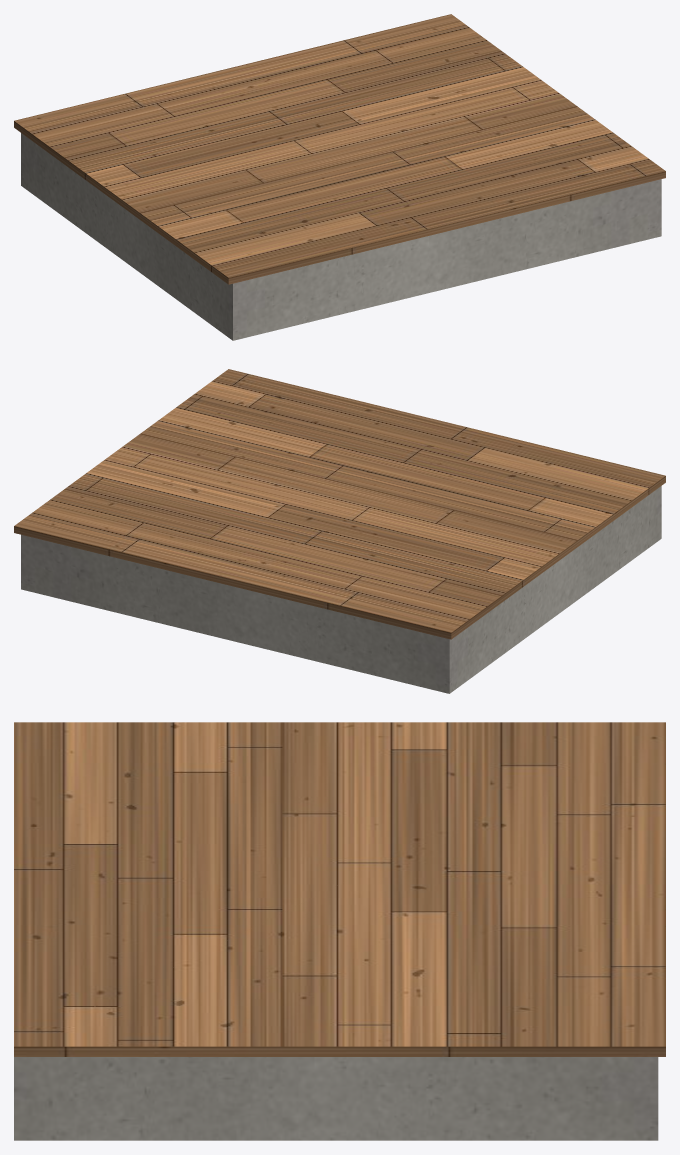
The model's file is floor_wood_g_e0_0_0_30.glb.
3 views of the same model, one above another, from view 1: azimuth 30°, elevation 25°; view 2: azimuth 150°, elevation 25°; view 3: azimuth 270°, elevation 25° (orthographic). The views are drawn at different scales.
Visible parts, largest first — view 1: floor_wood_g_e0_0_0_30_floor, floor_wood_g_e0_0_0_30_concrete; view 2: floor_wood_g_e0_0_0_30_floor, floor_wood_g_e0_0_0_30_concrete; view 3: floor_wood_g_e0_0_0_30_floor, floor_wood_g_e0_0_0_30_concrete.
Part boxes in pixels (x1=…): floor_wood_g_e0_0_0_30_floor: x1=14, y1=14, x2=665, y2=284; floor_wood_g_e0_0_0_30_concrete: x1=21, y1=133, x2=661, y2=340; floor_wood_g_e0_0_0_30_floor: x1=14, y1=369, x2=665, y2=639; floor_wood_g_e0_0_0_30_concrete: x1=21, y1=486, x2=661, y2=693; floor_wood_g_e0_0_0_30_floor: x1=14, y1=722, x2=665, y2=1056; floor_wood_g_e0_0_0_30_concrete: x1=14, y1=1057, x2=658, y2=1140.
Bounding box in the file's own units: 2 × 0.28 × 1.7.
Materials: 2 (2 with a texture image).
